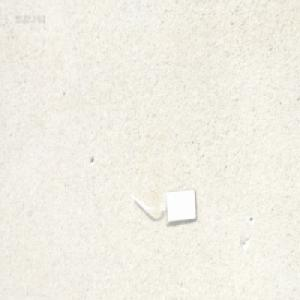LuggageTag: (124, 183, 196, 225)
